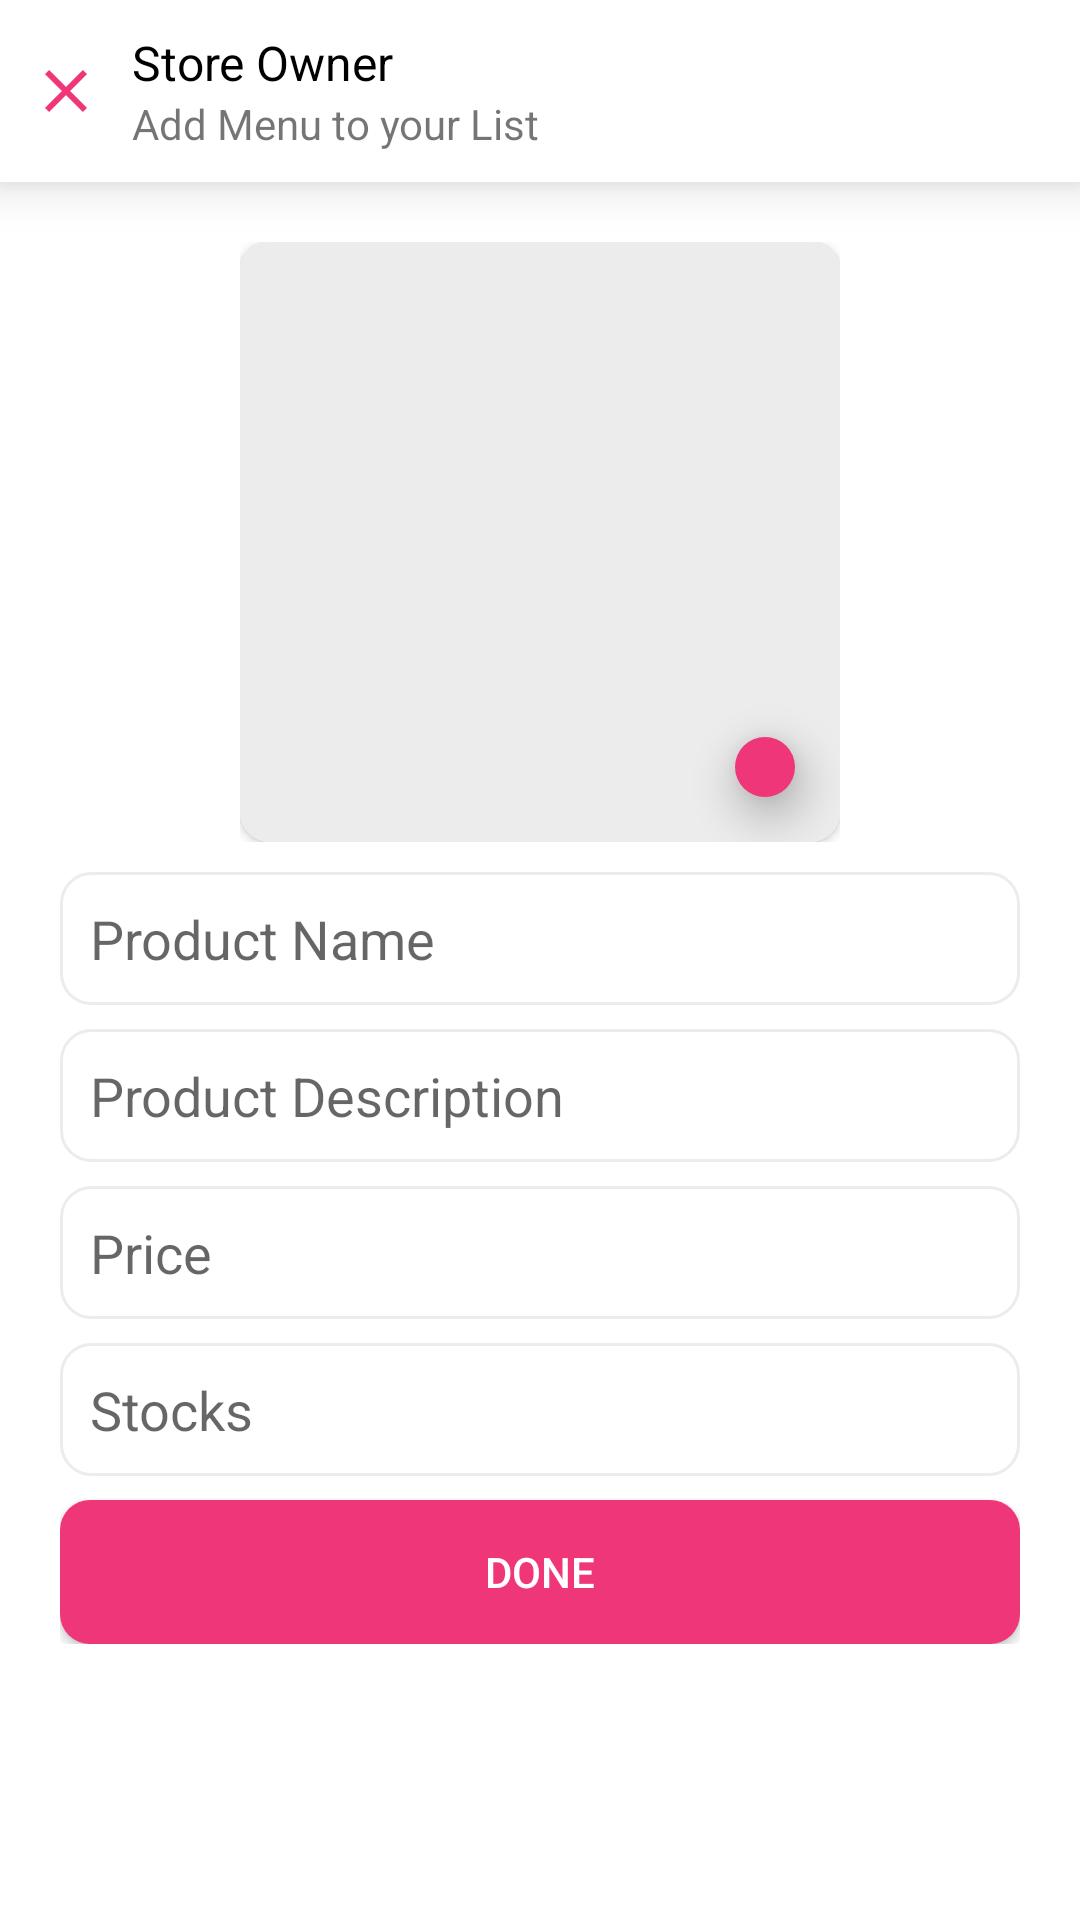

Named icons in this screenshot (1080x1920) and their bounding boxes, (x1, y1, x2, y2):
close: (45, 70, 87, 112)
